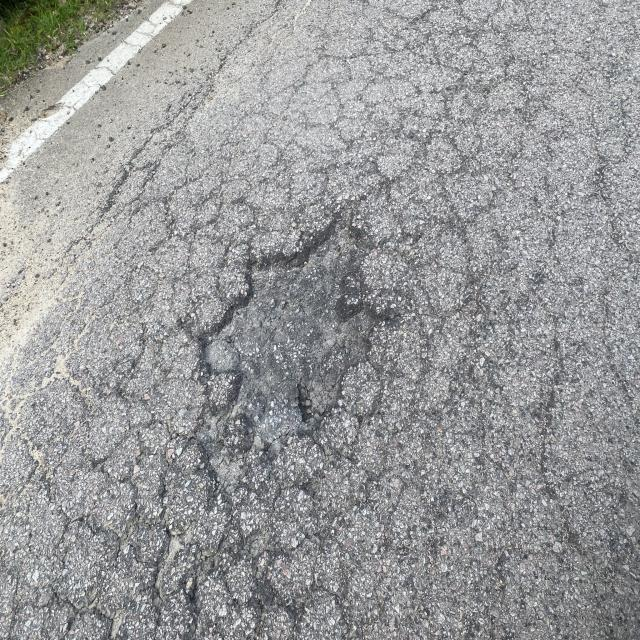pothole: (169, 203, 398, 446)
